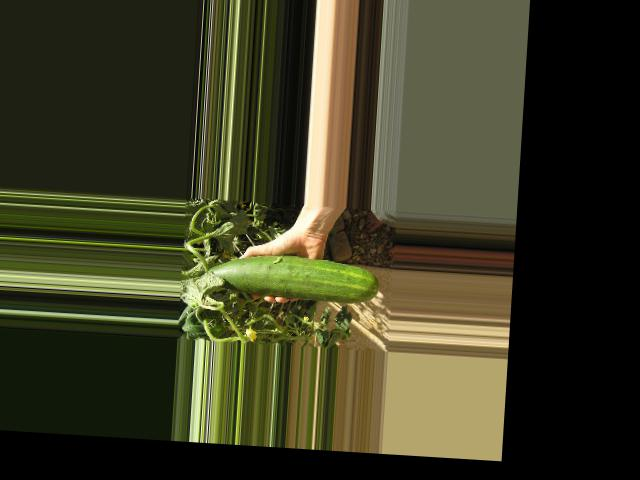cucumber: (204, 250, 381, 305)
